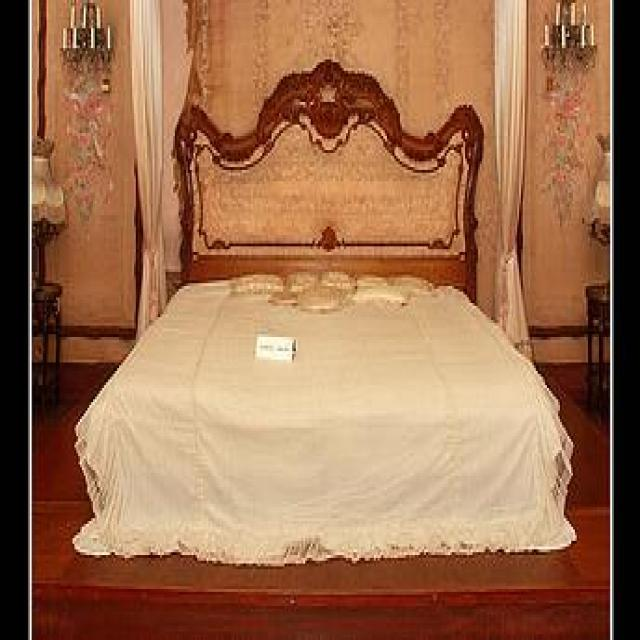bed: (70, 57, 576, 566)
